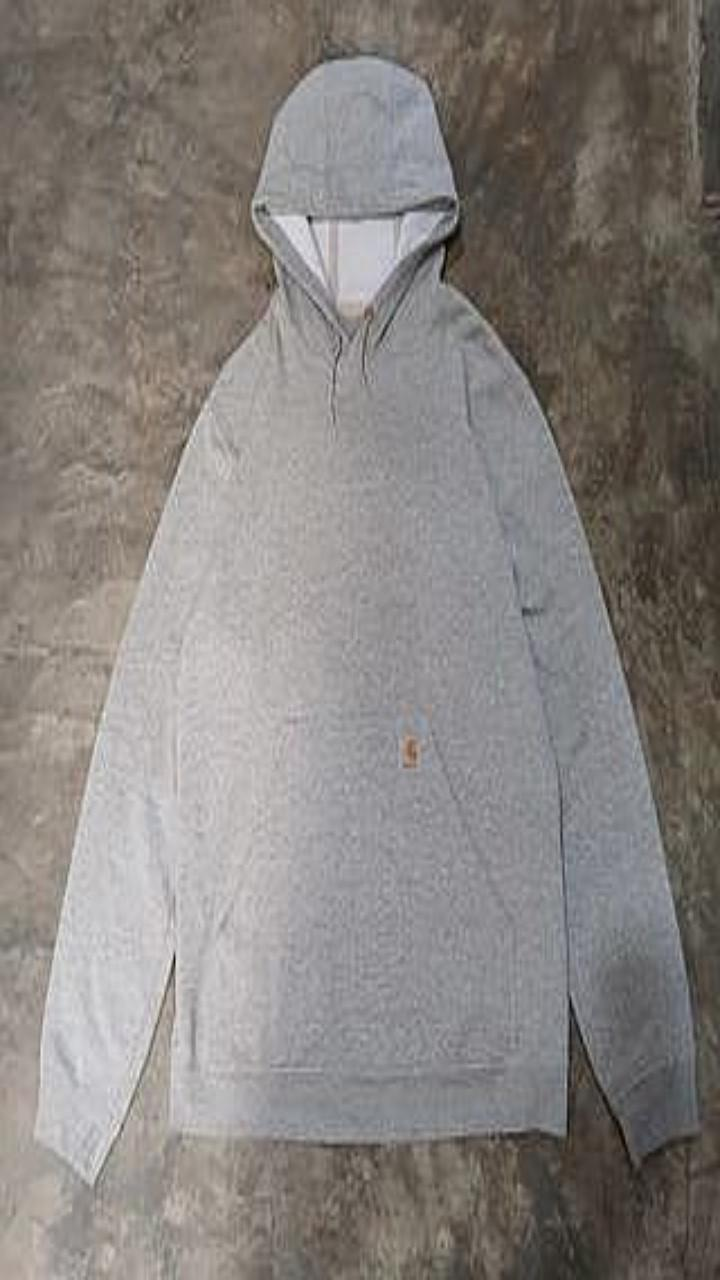Hoodie: (34, 54, 698, 1183)
